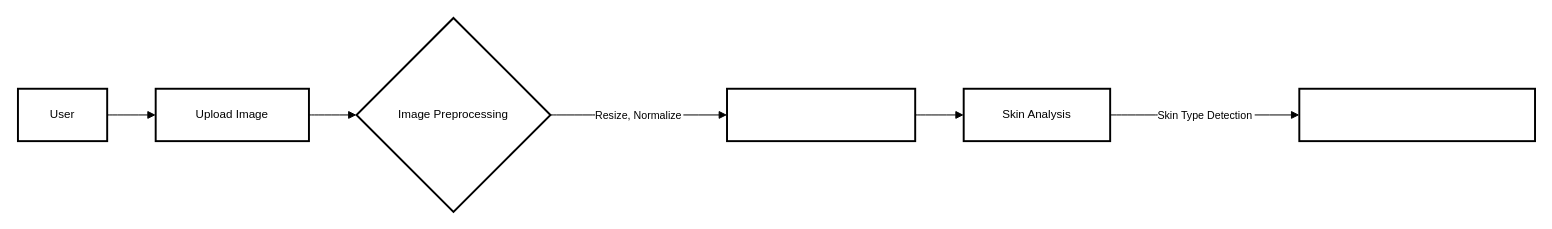
Some shapes in this 1552 by 229 pixel diagram are drawn without their labels. The shapes that lost their labels are listed below. From the top down, each one's centre as x and y in pixels, then its label:
At pixel 821 114: "Feature Extraction".
At pixel 1417 114: "Product Recommendation".
